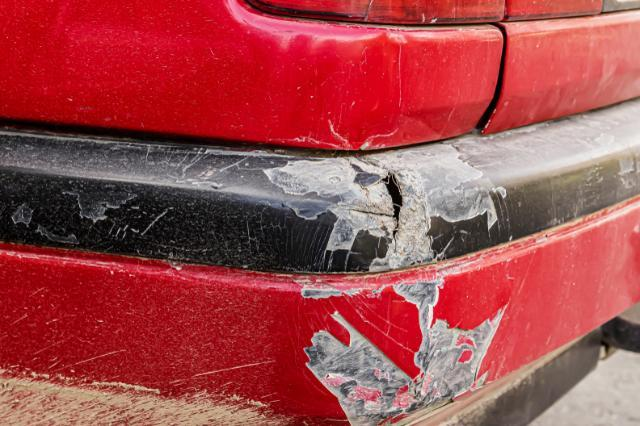Bumper: (4, 120, 579, 423)
